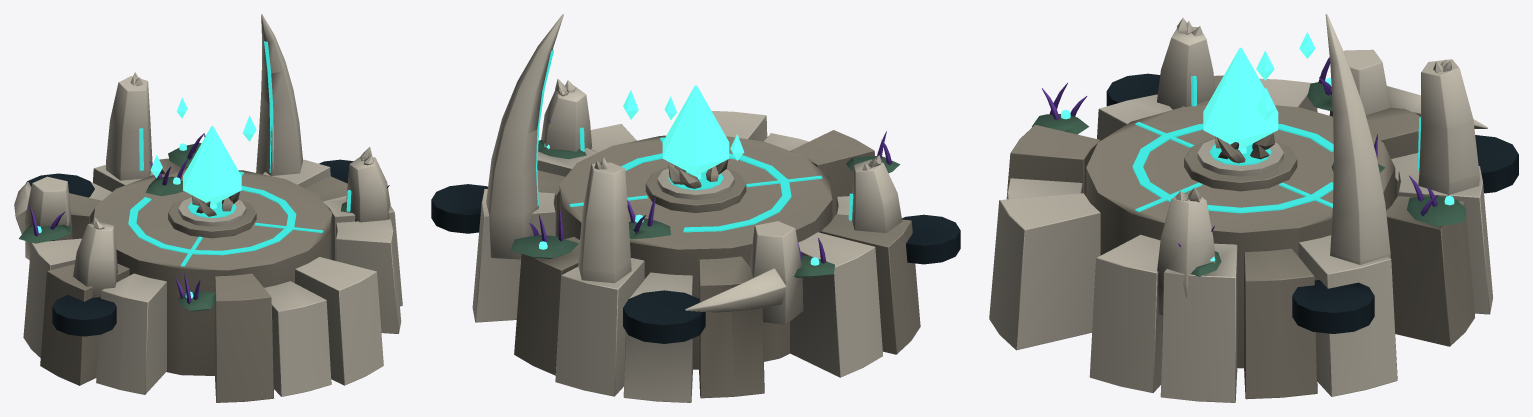
The model's file is prism-reactor-nacre.glb.
3 renders of one model, left to right at view 1: azimuth 30°, elevation 25°; view 2: azimuth 150°, elevation 25°; view 3: azimuth 270°, elevation 25°, orthographic. The views are drawn at different scales.
Visible parts, largest first — view 1: site_prism_reactor_nacre_body, site_prism_reactor_nacre_core, site_prism_reactor_nacre_ruin; view 2: site_prism_reactor_nacre_body, site_prism_reactor_nacre_core, site_prism_reactor_nacre_ruin; view 3: site_prism_reactor_nacre_body, site_prism_reactor_nacre_core, site_prism_reactor_nacre_ruin.
Boxes of the visible parts, x1,y1,x2,y2 form: site_prism_reactor_nacre_body: [14, 14, 402, 402]; site_prism_reactor_nacre_core: [150, 97, 256, 204]; site_prism_reactor_nacre_ruin: [192, 191, 239, 216]; site_prism_reactor_nacre_body: [431, 14, 960, 402]; site_prism_reactor_nacre_core: [623, 85, 744, 174]; site_prism_reactor_nacre_ruin: [668, 159, 728, 188]; site_prism_reactor_nacre_body: [989, 14, 1518, 402]; site_prism_reactor_nacre_core: [1203, 32, 1315, 148]; site_prism_reactor_nacre_ruin: [1214, 132, 1274, 163].
Size of the model in its own units: 5.5 by 3.65 by 5.14.
